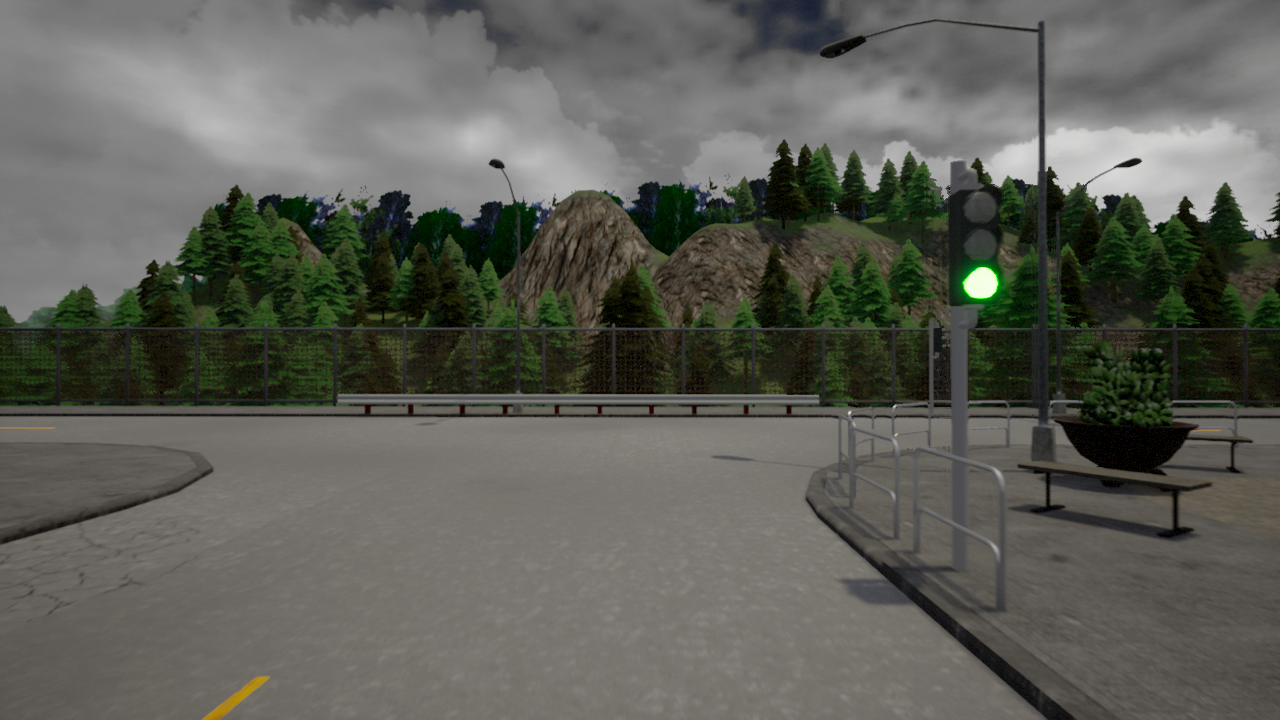green: (947, 186, 1000, 302)
